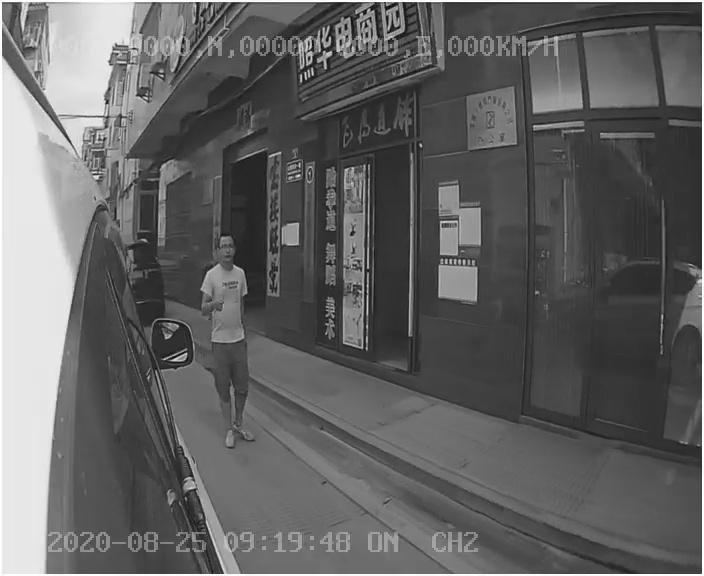person: (189, 232, 275, 453)
